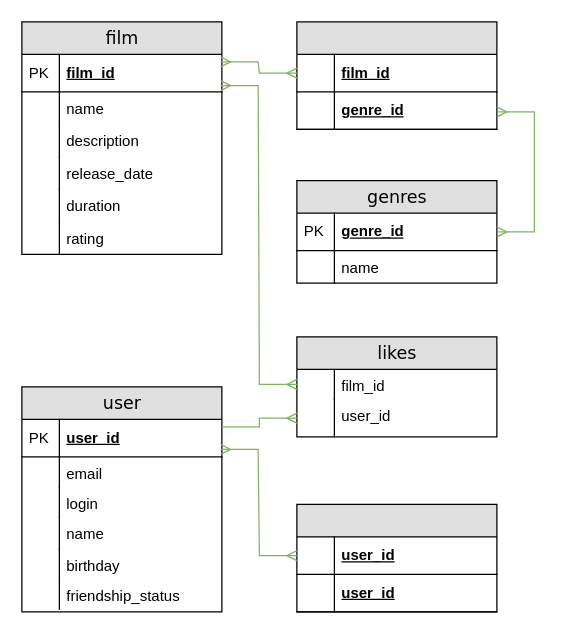
Some shapes in this 568 by 635 pixel diagram are drawn without their labels. Here are the shapes that lost their labels. From the top down, the box of each, then its label:
(296, 21, 497, 129): film_genre
(296, 503, 497, 612): user_friend
